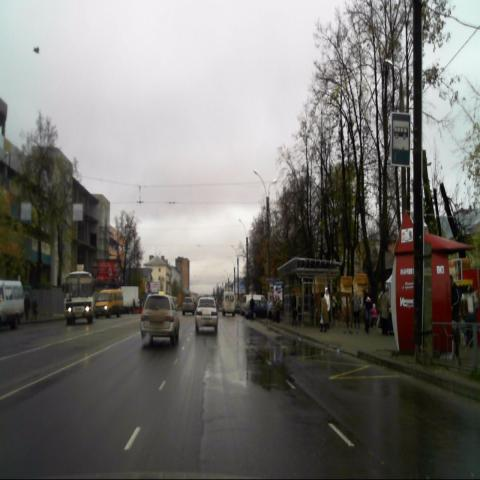5_16: (390, 113, 410, 168)
